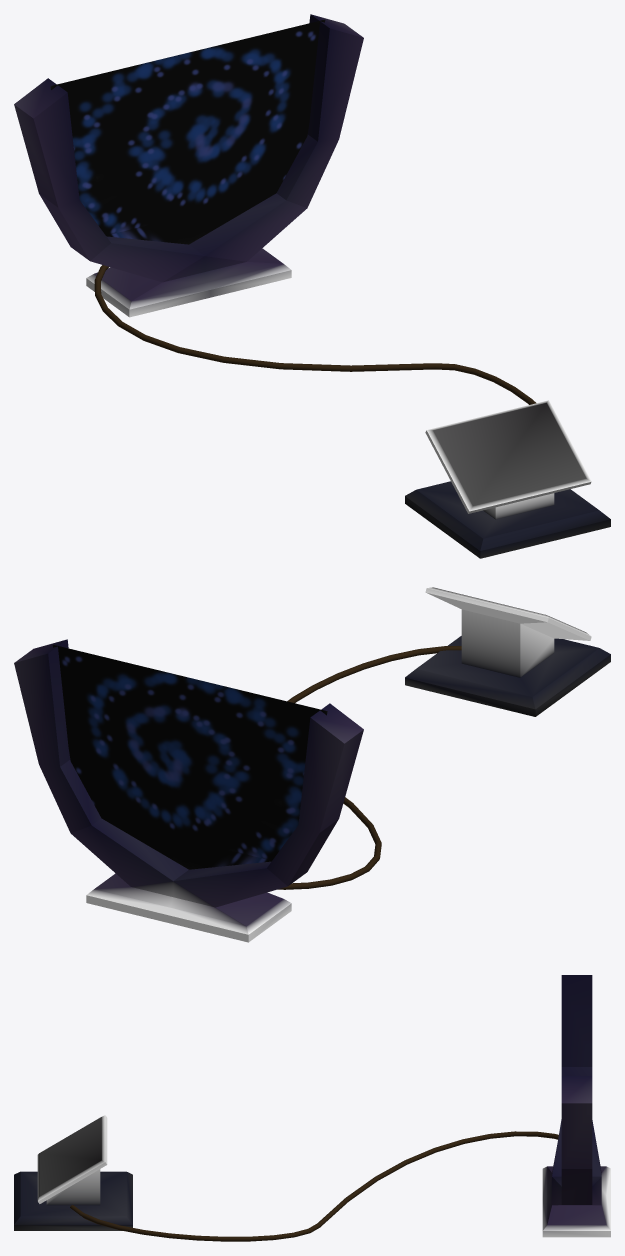
The model's file is gate_console.gltf.
The picture shows the model from 3 angles, top to bottom: view 1: azimuth 30°, elevation 25°; view 2: azimuth 150°, elevation 25°; view 3: azimuth 270°, elevation 25°; orthographic projection. The views are drawn at different scales.
Parts seen in each view (by area): view 1: Plane, gate-col, console-col, cable; view 2: Plane, gate-col, console-col, cable; view 3: gate-col, console-col, cable.
Part boxes in pixels (left/top/right/bottom): Plane: left=50, top=19, right=325, bottom=244; gate-col: left=14, top=14, right=363, bottom=317; console-col: left=405, top=400, right=610, bottom=558; cable: left=94, top=265, right=536, bottom=404; Plane: left=52, top=644, right=327, bottom=869; gate-col: left=14, top=639, right=363, bottom=942; console-col: left=405, top=587, right=610, bottom=716; cable: left=278, top=646, right=461, bottom=889; gate-col: left=542, top=975, right=610, bottom=1237; console-col: left=14, top=1115, right=132, bottom=1230; cable: left=70, top=1131, right=558, bottom=1241.
Size of the model in its own units: 3.59 by 2.38 by 7.12.
4 materials, 1 textured.
